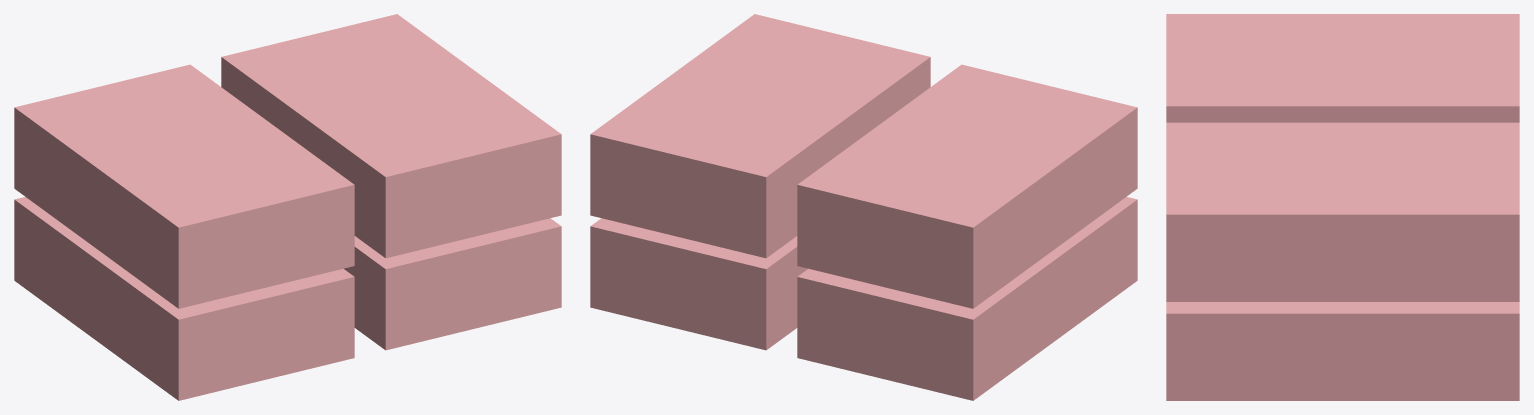
File: supply-bricks.glb
3 views of the same model, side by side, from view 1: azimuth 30°, elevation 25°; view 2: azimuth 150°, elevation 25°; view 3: azimuth 270°, elevation 25° (orthographic). The views are drawn at different scales.
Parts seen in each view (by area): view 1: unit2, unit3, unit0, unit1; view 2: unit2, unit3, unit0, unit1; view 3: unit3, unit2, unit1.
Boxes of the visible parts, x1,y1,x2,y2 form: unit2: [14, 64, 354, 308]; unit3: [221, 14, 561, 258]; unit0: [14, 197, 354, 400]; unit1: [344, 218, 561, 350]; unit2: [797, 64, 1137, 308]; unit3: [590, 14, 930, 258]; unit0: [797, 197, 1137, 400]; unit1: [590, 218, 807, 350]; unit3: [1166, 122, 1519, 301]; unit2: [1166, 14, 1519, 122]; unit1: [1166, 302, 1519, 400].
Size of the model in its own units: 0.74 by 0.32 by 0.55.
